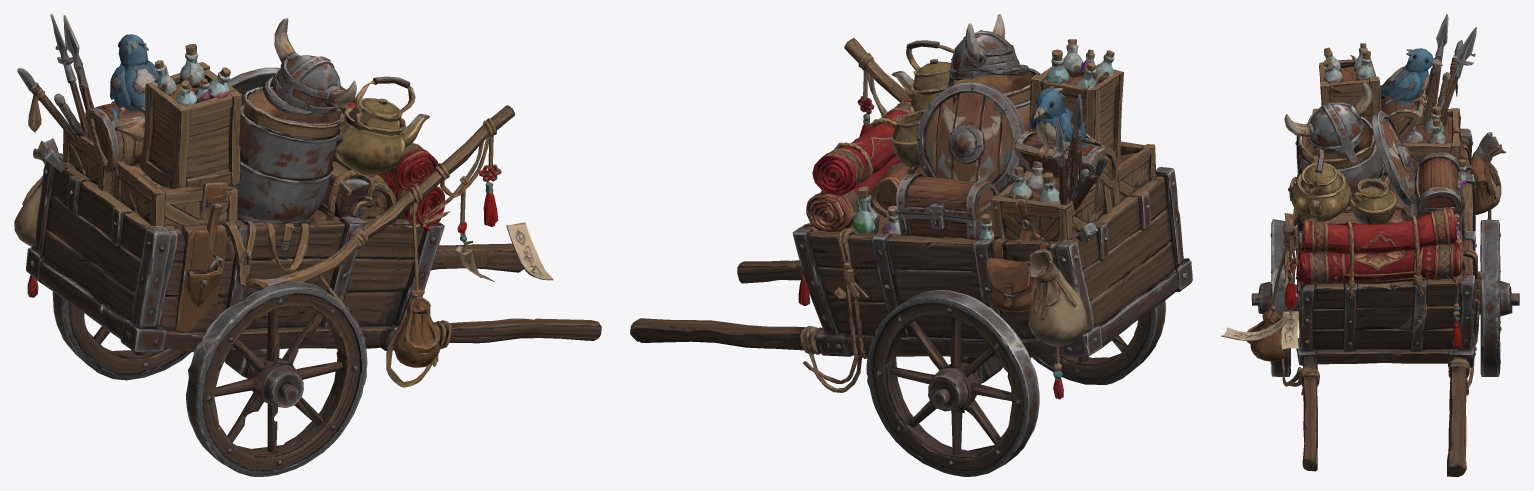
File: merchant_cart.glb
The picture shows the model from 3 angles, left to right: view 1: azimuth 30°, elevation 25°; view 2: azimuth 150°, elevation 25°; view 3: azimuth 270°, elevation 25°; orthographic projection. The views are drawn at different scales.
Parts seen in each view (by area): view 1: merchant_cart; view 2: merchant_cart; view 3: merchant_cart.
Boxes of the visible parts, x1,y1,x2,y2 form: merchant_cart: (14,14,601,476); merchant_cart: (630,14,1192,476); merchant_cart: (1221,14,1519,476).
Bounding box in the file's own units: 2.48 × 1.9 × 1.63.
1 material, 1 textured.
